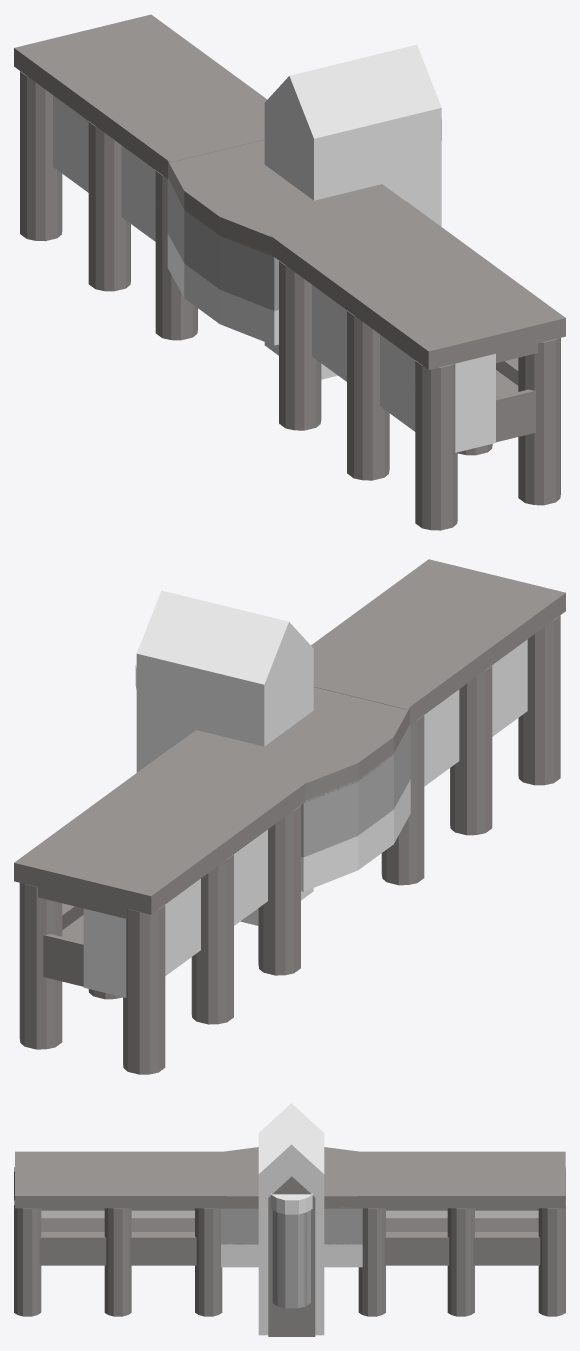
The model's file is honkousya.glb.
3 renders of one model, top to bottom at view 1: azimuth 30°, elevation 25°; view 2: azimuth 150°, elevation 25°; view 3: azimuth 270°, elevation 25°, orthographic. The views are drawn at different scales.
Parts seen in each view (by area): view 1: 渡り廊下・屋根_1, 渡り廊下・支柱, 渡り廊下・階段部分, 渡り廊下・後方側, 渡り廊下・丸目の屋根, 渡り廊下・丸目の屋根・真ん中部分, 渡り廊下・丸目の屋根・下の部分, 渡り廊下・ベランダ; view 2: 渡り廊下・屋根_1, 渡り廊下・支柱, 渡り廊下・階段部分, 渡り廊下・後方側, 渡り廊下・丸目の屋根, 渡り廊下・丸目の屋根・真ん中部分, 渡り廊下・丸目の屋根・下の部分, 渡り廊下・ベランダ, 渡り廊下・屋根_2; view 3: 渡り廊下・屋根_1, 渡り廊下・支柱, 渡り廊下・ベランダ, 渡り廊下・階段部分, 渡り廊下・丸目の屋根, 渡り廊下・階段部分・ガラス筒, 渡り廊下・階段部分・コンクリ, 渡り廊下・丸目の屋根・真ん中部分, 渡り廊下・後方側, 渡り廊下・丸目の屋根・下の部分, 渡り廊下・階段部分・鉄のフタ, 渡り廊下・屋根_2.
Part boxes in pixels (x1,y1,x2,y2): 渡り廊下・屋根_1: (14, 14, 565, 369); 渡り廊下・支柱: (20, 71, 560, 530); 渡り廊下・階段部分: (264, 44, 441, 379); 渡り廊下・後方側: (53, 95, 495, 452); 渡り廊下・丸目の屋根: (168, 140, 405, 256); 渡り廊下・丸目の屋根・真ん中部分: (167, 178, 278, 311); 渡り廊下・丸目の屋根・下の部分: (167, 233, 278, 345); 渡り廊下・ベランダ: (496, 358, 535, 442); 渡り廊下・屋根_1: (14, 559, 565, 914); 渡り廊下・支柱: (19, 615, 560, 1074); 渡り廊下・階段部分: (136, 590, 313, 925); 渡り廊下・後方側: (83, 639, 527, 997); 渡り廊下・丸目の屋根: (171, 687, 409, 802); 渡り廊下・丸目の屋根・真ん中部分: (301, 724, 410, 857); 渡り廊下・丸目の屋根・下の部分: (301, 779, 410, 891); 渡り廊下・ベランダ: (43, 903, 83, 986); 渡り廊下・屋根_2: (38, 887, 127, 918); 渡り廊下・屋根_1: (15, 1151, 565, 1208); 渡り廊下・支柱: (14, 1167, 565, 1316); 渡り廊下・ベランダ: (39, 1218, 540, 1265); 渡り廊下・階段部分: (258, 1103, 324, 1335); 渡り廊下・丸目の屋根: (221, 1147, 362, 1208); 渡り廊下・階段部分・ガラス筒: (272, 1210, 310, 1308); 渡り廊下・階段部分・コンクリ: (268, 1176, 315, 1336); 渡り廊下・丸目の屋根・真ん中部分: (221, 1207, 362, 1244); 渡り廊下・後方側: (41, 1210, 538, 1217); 渡り廊下・丸目の屋根・下の部分: (221, 1244, 362, 1267); 渡り廊下・階段部分・鉄のフタ: (271, 1193, 312, 1214); 渡り廊下・屋根_2: (41, 1208, 538, 1210).
Size of the model in its own units: 3.29 by 3.87 by 10.09.
9 materials, 9 textured.
